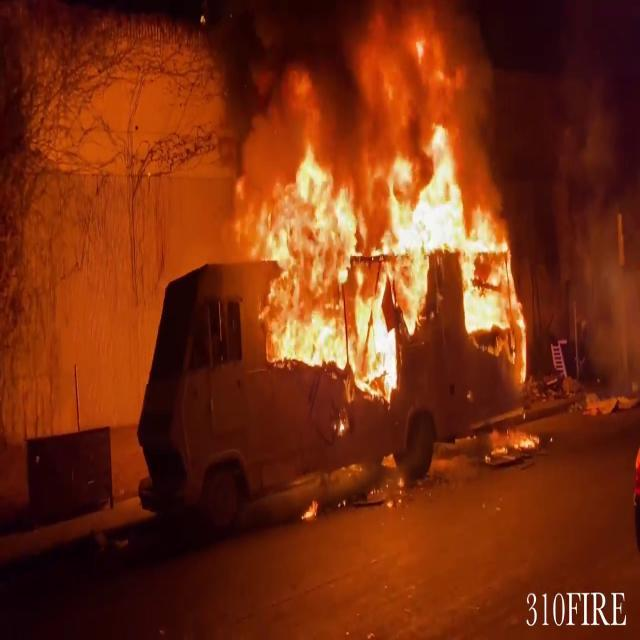Fire: (236, 21, 530, 392)
Smoke: (542, 11, 640, 376)
